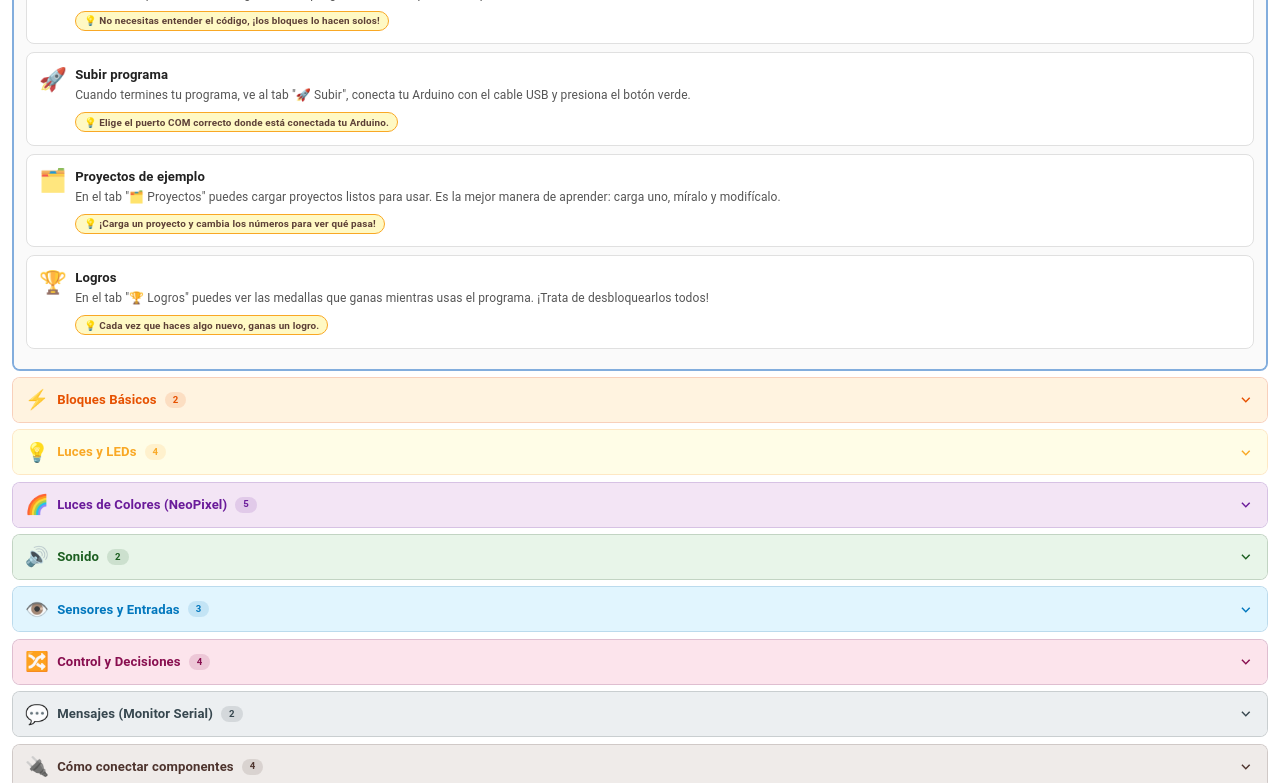
Test: KidsHelpPanel › permite abrir y cerrar las secciones
The image size is (1280, 783).
(page scrolled)
Abrir la segunda sección
Click the button "⚡ Bloques Básicos 2" at {"x": 107, "y": 400}, box [13, 378, 1267, 422]
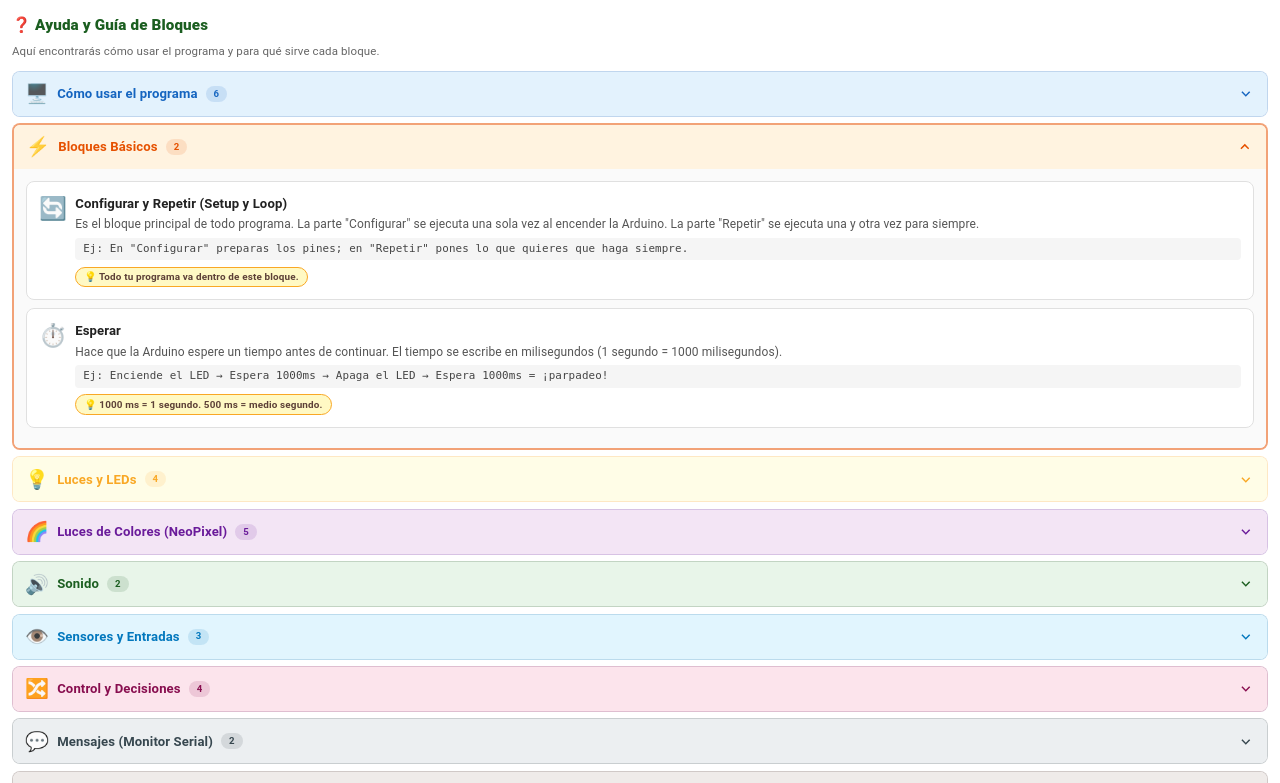
Expected: the button "⚡ Bloques Básicos 2" is expanded
Cerrarla de nuevo
Click the button "⚡ Bloques Básicos 2" at {"x": 108, "y": 147}, box [14, 125, 1266, 169]
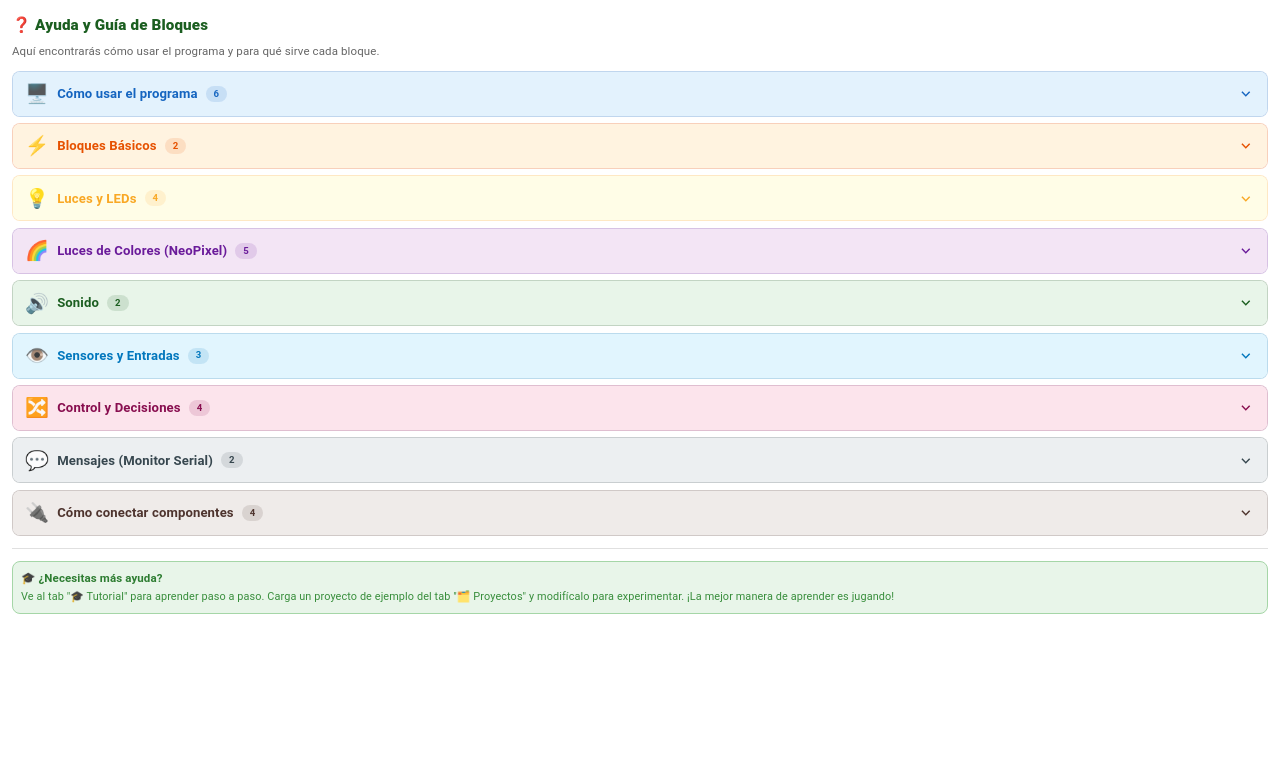
Expected: the button "⚡ Bloques Básicos 2" is collapsed, [13, 124, 1267, 168]
